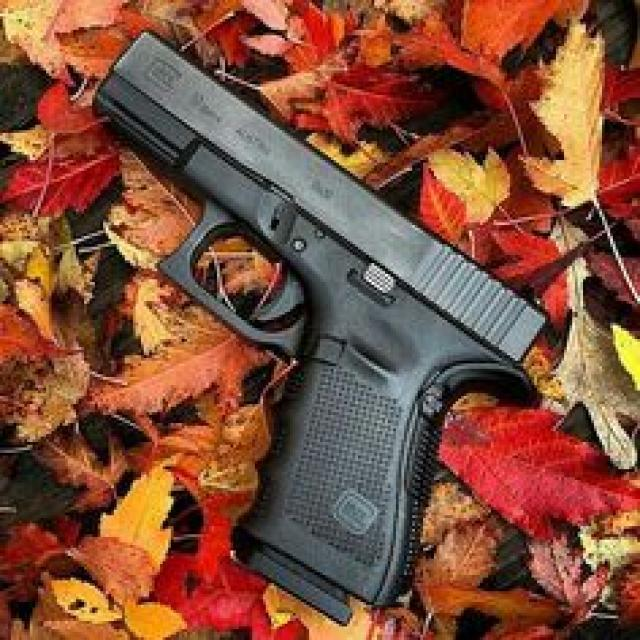semi automatic: (82, 10, 560, 624)
